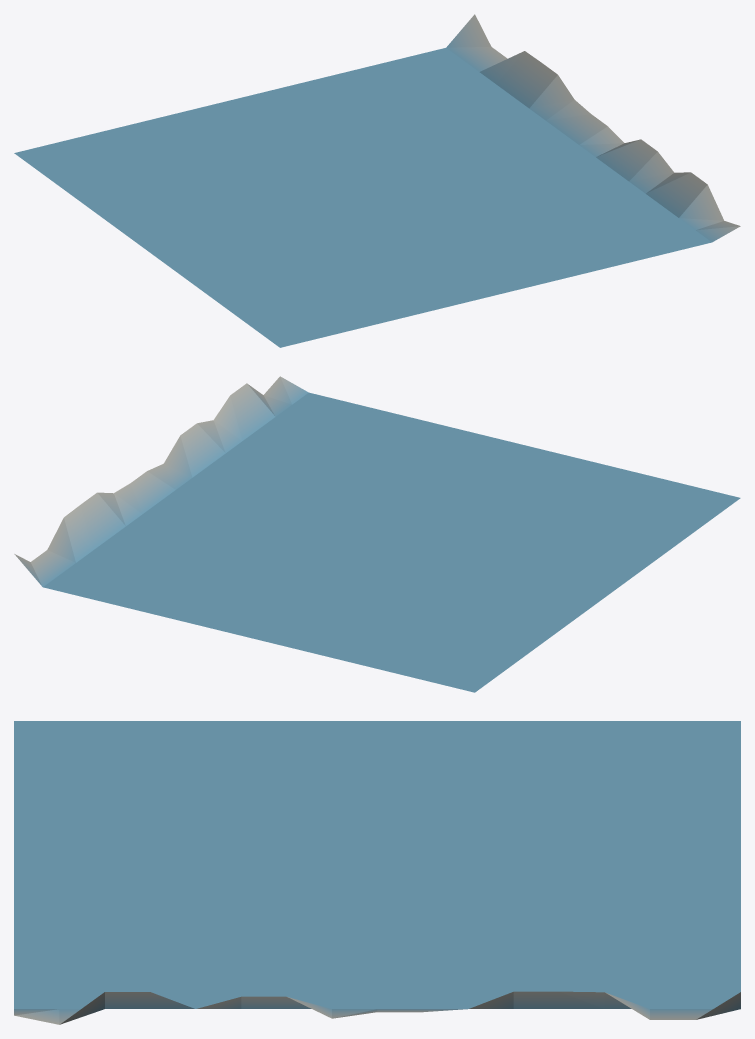
The picture shows the model from 3 angles, top to bottom: view 1: azimuth 30°, elevation 25°; view 2: azimuth 150°, elevation 25°; view 3: azimuth 270°, elevation 25°; orthographic projection. The views are drawn at different scales.
Bounding box in the file's own units: 32 × 1.78 × 32.
